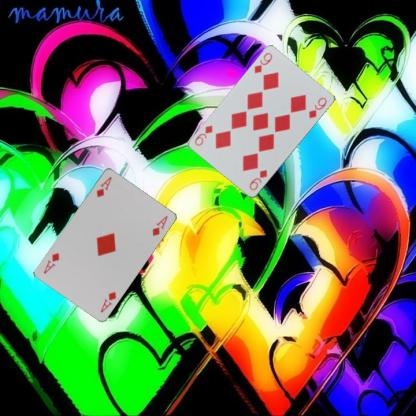9d: (247, 167, 269, 192), (252, 50, 274, 75)
Ad: (98, 288, 117, 314), (94, 174, 112, 198)
